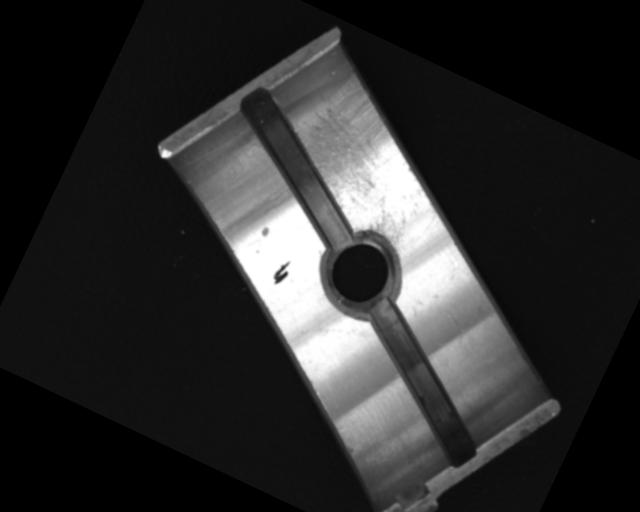blot: (270, 256, 295, 288)
bruise: (259, 224, 271, 238)
gap: (323, 293, 519, 471), (201, 82, 388, 249)
hole: (308, 221, 416, 327)
scratch: (268, 61, 461, 254)
